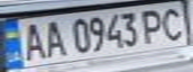0: (66, 15, 90, 54)
3: (118, 9, 145, 47)
4: (106, 11, 127, 50)
9: (87, 14, 109, 52)
A: (18, 20, 48, 61), (39, 18, 69, 58)
C: (157, 3, 190, 43)
P: (136, 6, 169, 44)
